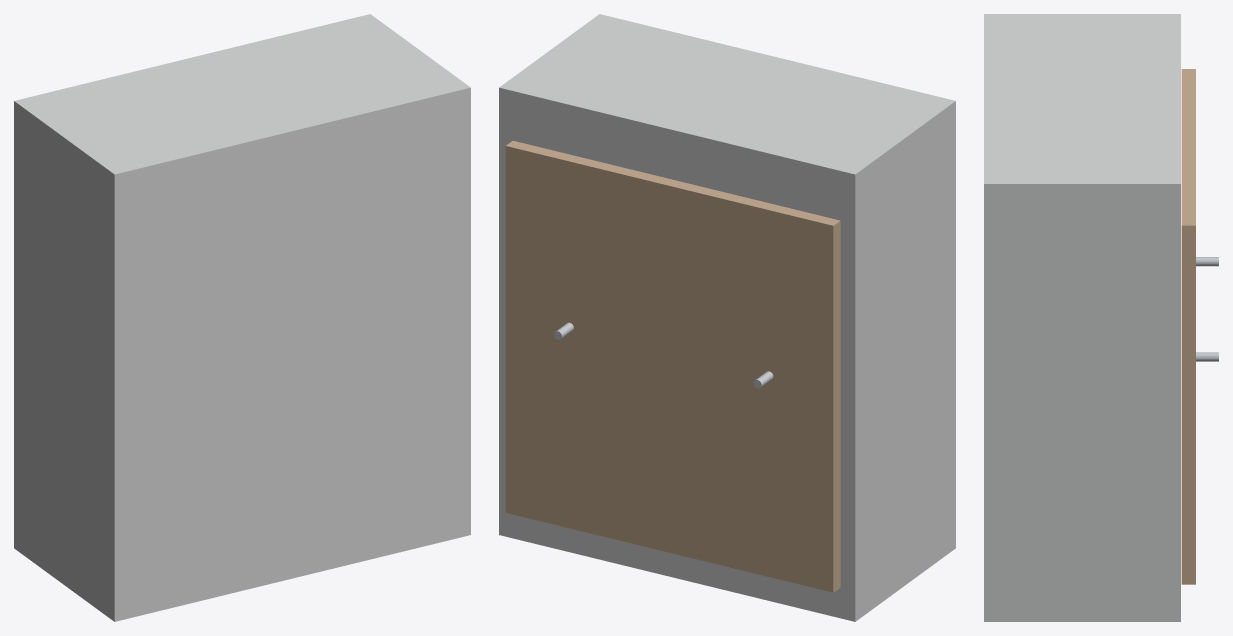
The model's file is kitchen-upper.glb.
3 views of the same model, side by side, from view 1: azimuth 30°, elevation 25°; view 2: azimuth 150°, elevation 25°; view 3: azimuth 270°, elevation 25° (orthographic). The views are drawn at different scales.
Parts seen in each view (by area): view 1: cabinet_0; view 2: front_1, cabinet_0; view 3: cabinet_0, front_1.
Part boxes in pixels (box(x1,y1,x2,y2)): cabinet_0: box(14, 14, 470, 621); front_1: box(505, 140, 840, 592); cabinet_0: box(499, 14, 955, 621); cabinet_0: box(984, 14, 1180, 621); front_1: box(1181, 69, 1195, 584).
Size of the model in its own units: 0.6 by 0.72 by 0.35.
